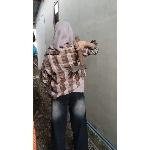Kapak: (70, 34, 90, 74)
